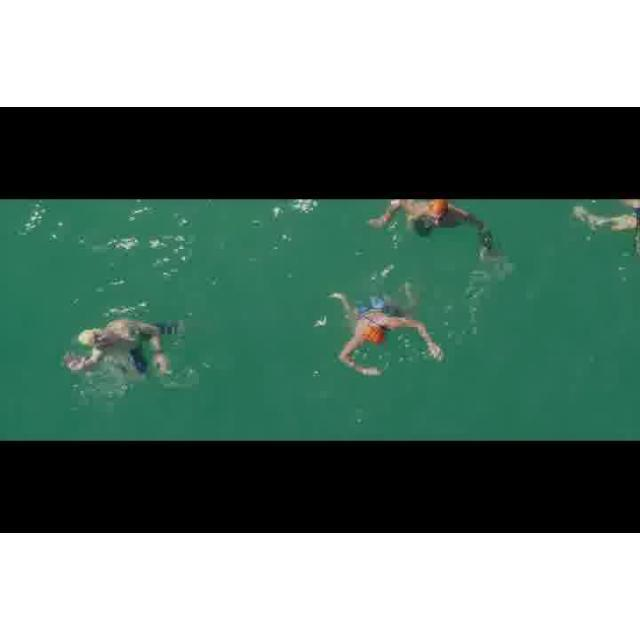human: (318, 291, 452, 379), (64, 318, 184, 394), (367, 200, 499, 256)
